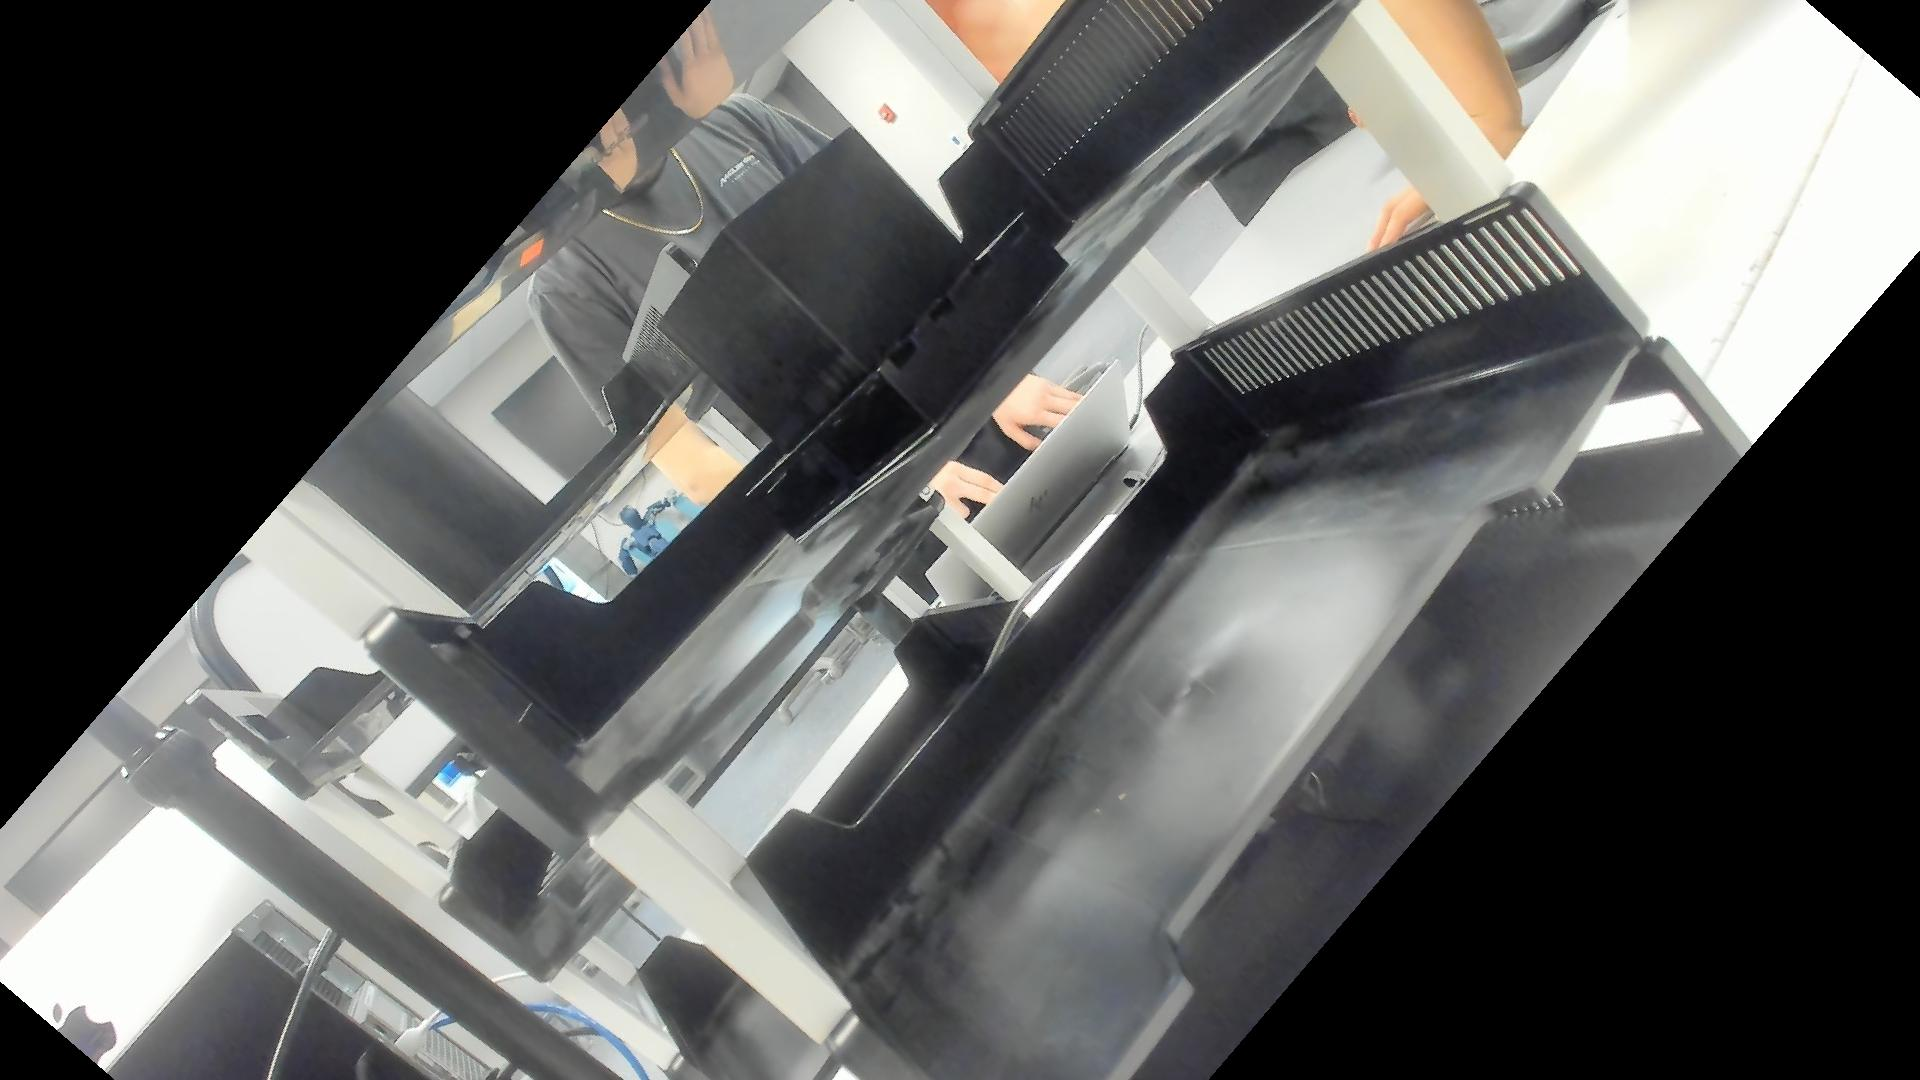black pallet: (649, 117, 1077, 550)
